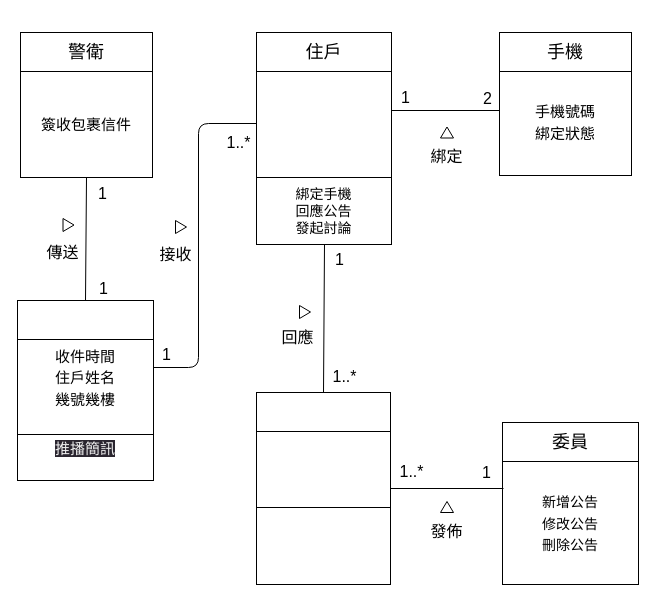
Image size: 656x602. Some labels were removed from this diagram. The shapes that lost their labels are listed below. From the top down, each one's centre as x and y in pixels, then its label:
point 324,123: 姓名 手機號碼 幾號幾樓
point 85,320: APP
point 323,412: 公告
point 323,469: 發佈者 內容 回應者
point 323,545: 新增公告 修改公告 刪除公告 回應公告
